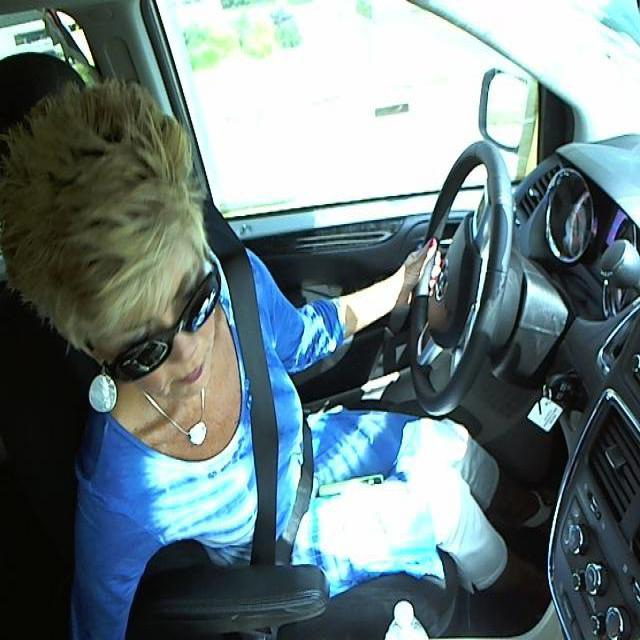seatbelt: (220, 280, 316, 565)
